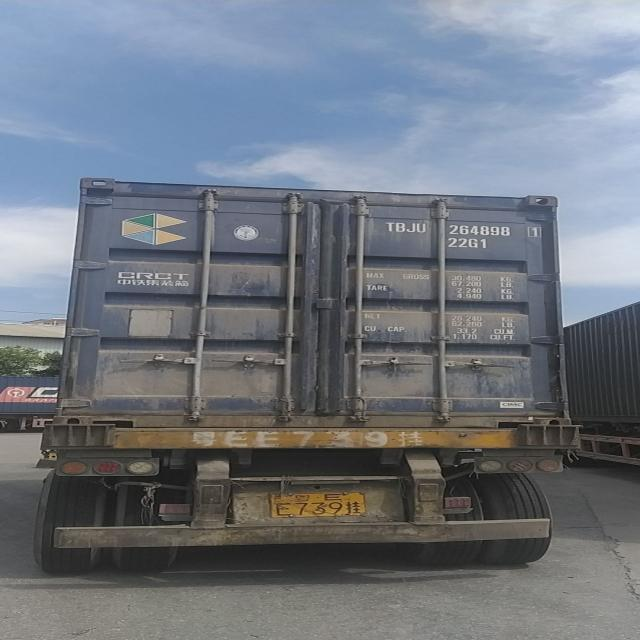ISO: (444, 236, 494, 254)
container_number: (388, 222, 538, 238)
